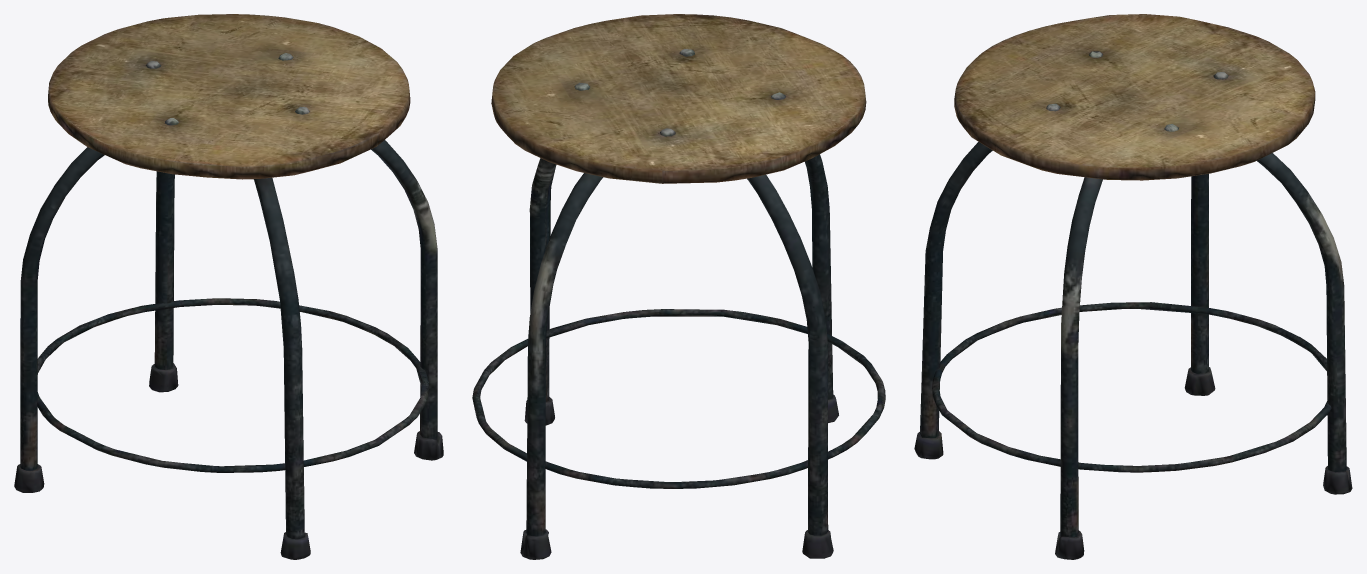
The model's file is metal_stool_02.glb.
3 renders of one model, left to right at view 1: azimuth 30°, elevation 25°; view 2: azimuth 150°, elevation 25°; view 3: azimuth 270°, elevation 25°, orthographic. The views are drawn at different scales.
Parts seen in each view (by area): view 1: metal_stool_02; view 2: metal_stool_02; view 3: metal_stool_02.
Boxes of the visible parts, x1,y1,x2,y2 form: metal_stool_02: (14,14,443,559); metal_stool_02: (472,14,885,559); metal_stool_02: (914,14,1352,559).
Size of the model in its own units: 0.4481 by 0.4579 by 0.4727.
1 material, 1 textured.
